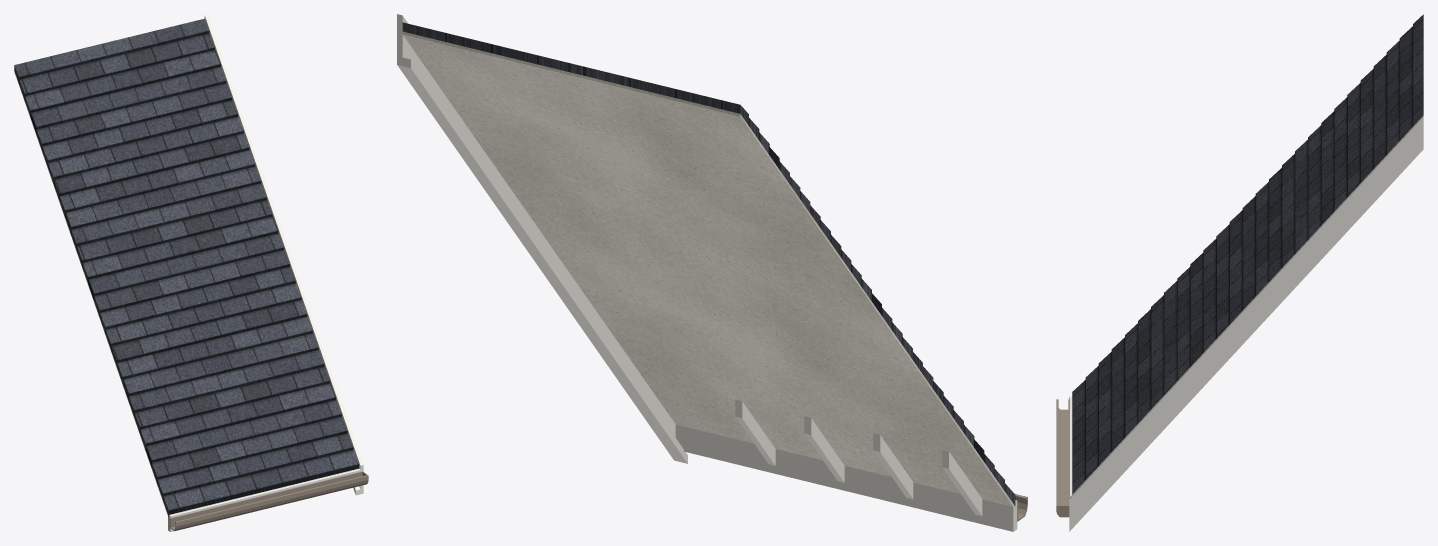
File: roof_eave_b.glb
3 renders of one model, left to right at view 1: azimuth 30°, elevation 25°; view 2: azimuth 150°, elevation 25°; view 3: azimuth 270°, elevation 25°, orthographic. The views are drawn at different scales.
Visible parts, largest first — view 1: roof_eave_b_shingles, roof_eave_b_trim, roof_eave_b_gutter, roof_eave_b_plaster; view 2: roof_eave_b_plaster, roof_eave_b_trim, roof_eave_b_shingles; view 3: roof_eave_b_shingles, roof_eave_b_trim, roof_eave_b_gutter.
Part boxes in pixels (x1,y1,x2,y2): roof_eave_b_shingles: (14, 18, 358, 516); roof_eave_b_trim: (168, 14, 363, 531); roof_eave_b_gutter: (170, 471, 368, 531); roof_eave_b_plaster: (14, 71, 168, 518); roof_eave_b_plaster: (402, 31, 1015, 508); roof_eave_b_trim: (397, 14, 1017, 531); roof_eave_b_shingles: (402, 22, 1015, 505); roof_eave_b_shingles: (1072, 14, 1423, 493); roof_eave_b_trim: (1069, 115, 1423, 531); roof_eave_b_gutter: (1056, 399, 1069, 517).
Size of the model in its own units: 2.49 by 4.5 by 3.61.
4 materials, 2 textured.
